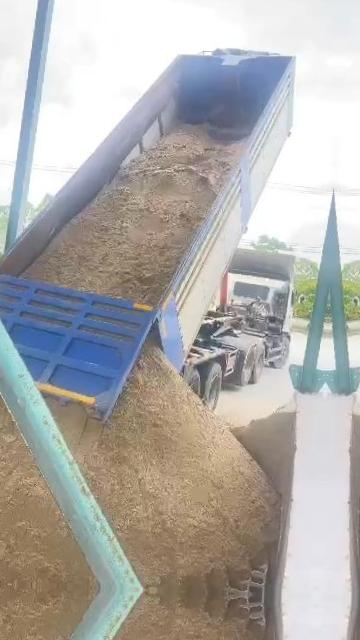sand: (51, 345, 279, 593), (24, 126, 243, 304), (0, 382, 96, 586), (232, 401, 295, 526)
